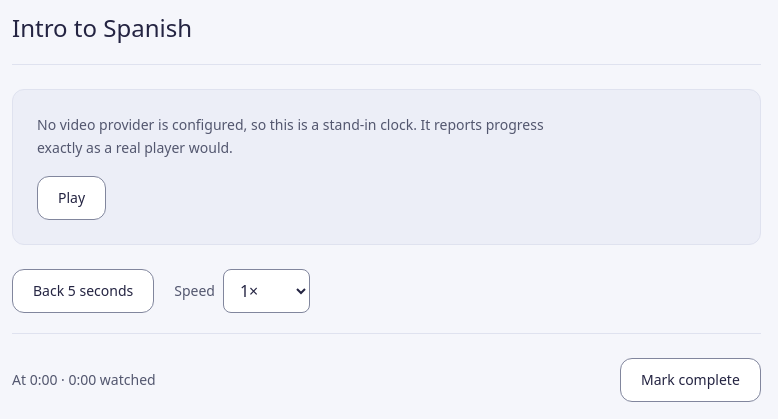
Test: the comfort controls › takes the playhead back five seconds
Check: the heading "Intro to Spanish" is shown, box [12, 11, 192, 44]
Step 1. Click the button "Play" → (72, 198), box [37, 176, 106, 220]
Wait 12000 ms
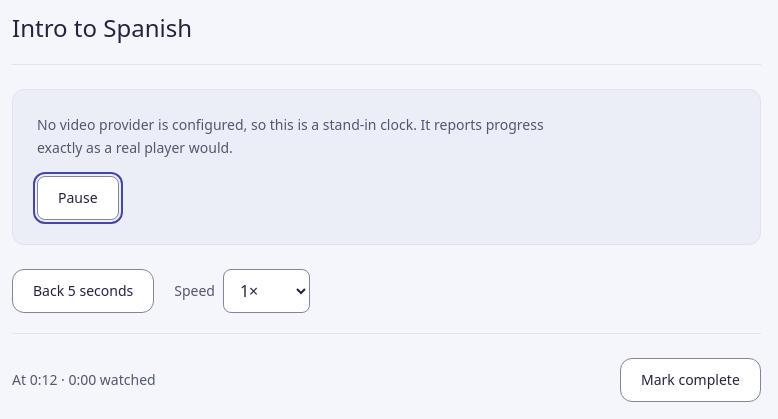
Check: the text "At 0:12 · 0:00 watched" is shown, box [12, 370, 156, 390]
Step 2. Click the button "Back 5 seconds" → (83, 290), box [12, 268, 154, 312]
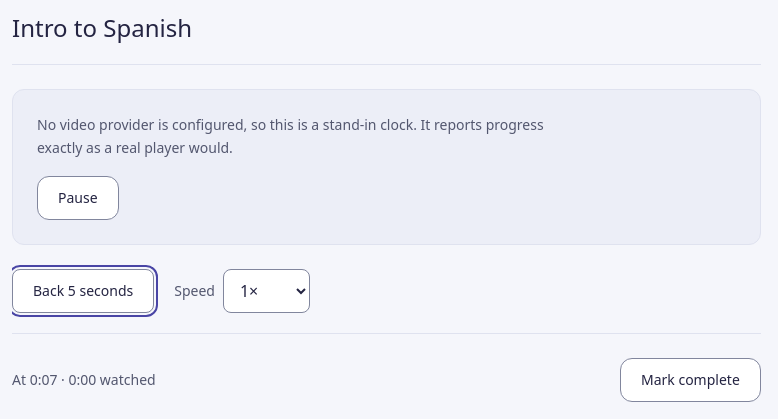
Check: the text "At 0:07 · 0:00 watched" is shown, box [12, 370, 156, 390]
